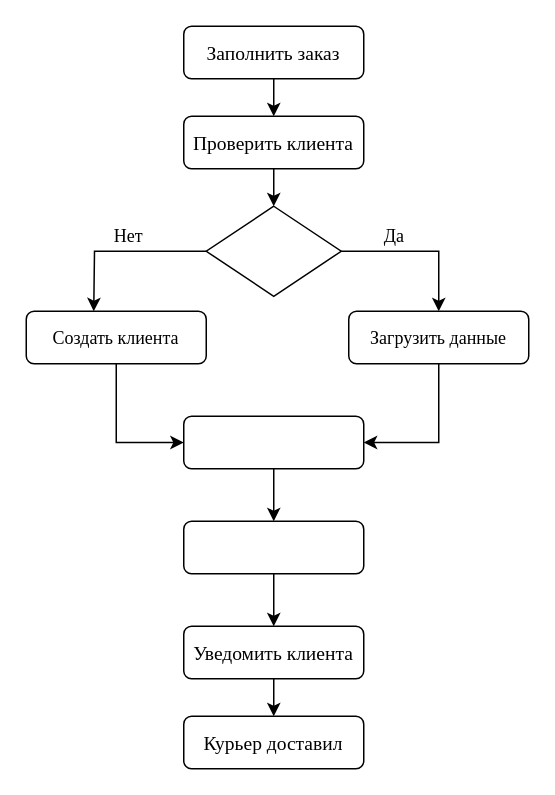
Image size: 555x795. Some labels were removed from this diagram. The shapes that lost their labels are listed below. From the top down, each one's box as (x1, y1, x2, y2) in pixels, then its label:
(205, 205, 341, 296): Есть в БД?
(182, 415, 364, 469): Сохранить заказ
(182, 520, 364, 574): Назначить курьера
